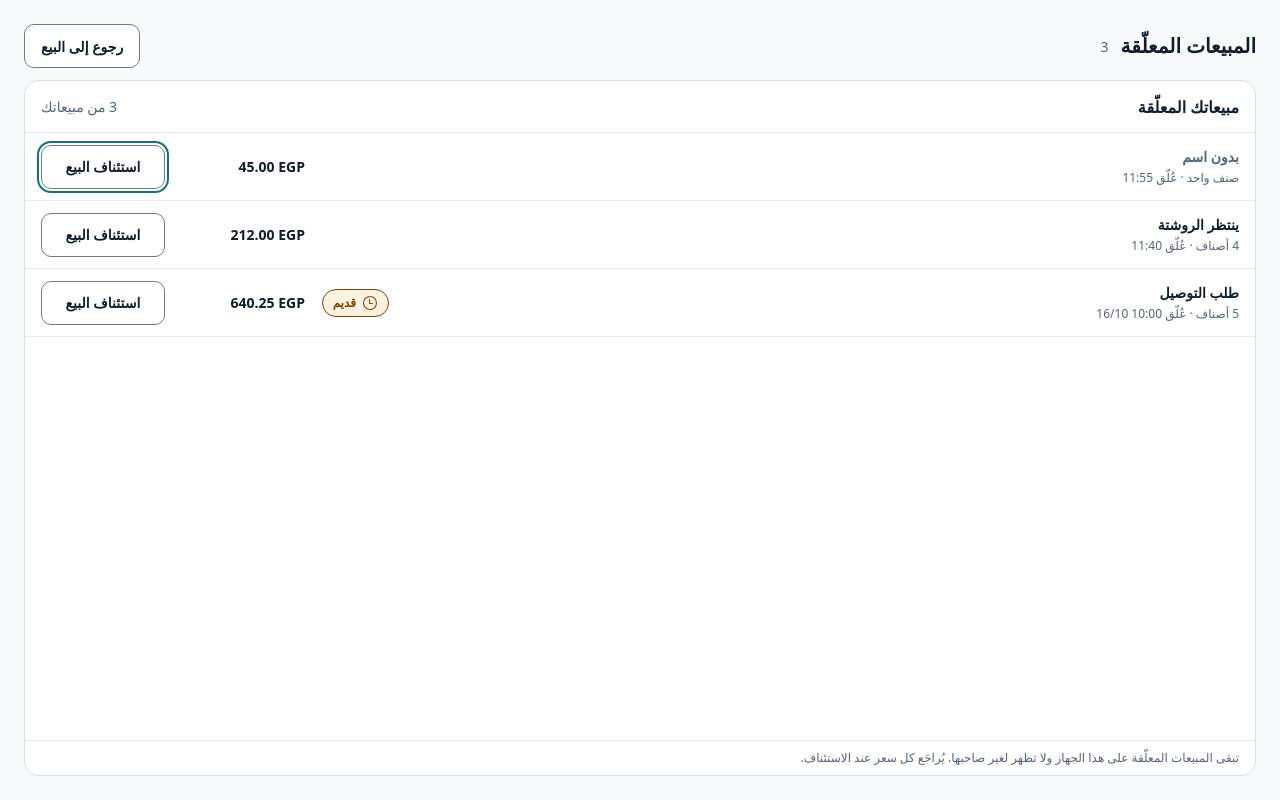
Test: resume (spec 024 §3.3–§3.4) › checkout_in_progress shows the drawn refusal with «رجوع» only
This screenshot has width=1280, height=800.
Click the button "استئناف البيع" in the row of "ينتظر الروشتة" at (103, 234), box [41,212,165,256]
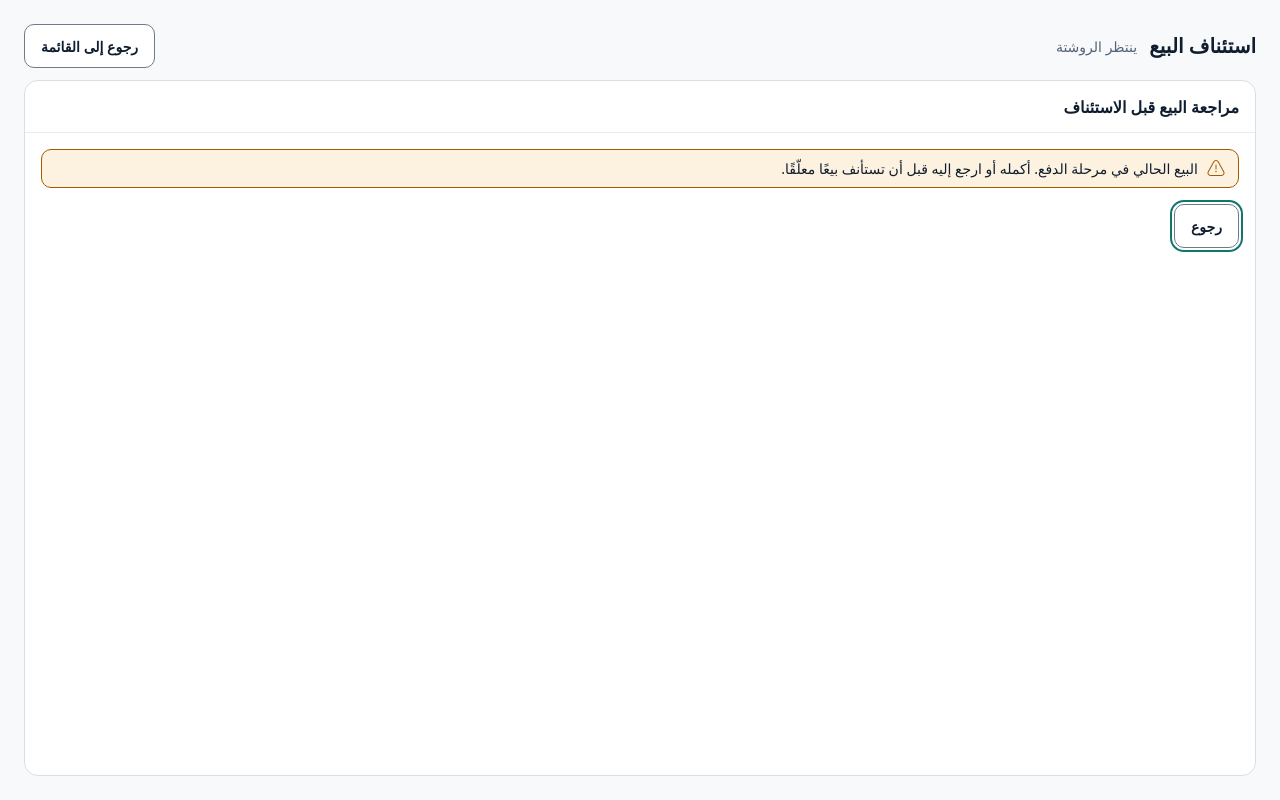
Expected: the text "البيع الحالي في مرحلة الدفع. أكمله أو ارجع إليه قبل أن تستأنف بيعًا معلّقًا." is shown, [781,159,1198,178]
